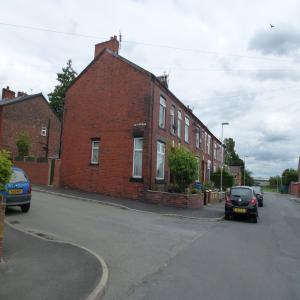Vehicle-registration-plate: (10, 189, 23, 194), (236, 209, 246, 213)
